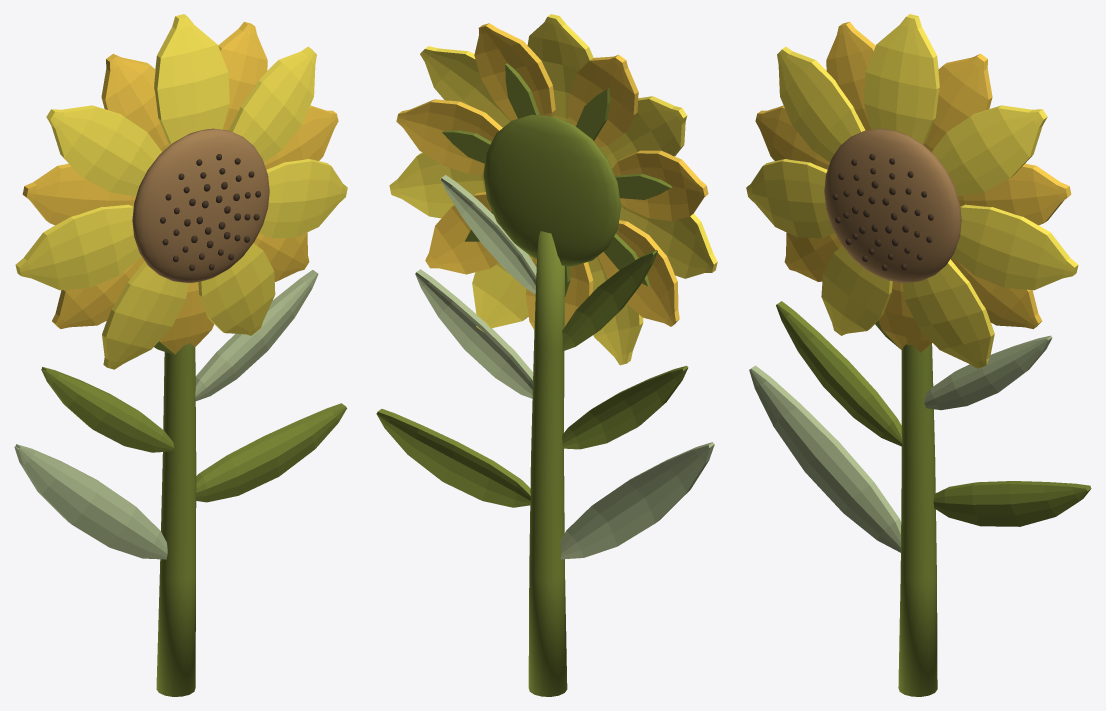
File: Sunflower.glb
3 views of the same model, side by side, from view 1: azimuth 30°, elevation 25°; view 2: azimuth 150°, elevation 25°; view 3: azimuth 330°, elevation 25° (orthographic).
Visible parts, largest first — view 1: Sunflower_Center, Sunflower_Stem, Sunflower_Petal_04, Sunflower_Leaf_Lower_L, Sunflower_Petal_00, Sunflower_Petal_02, Sunflower_Leaf_Lower_R, Sunflower_Petal_12, Sunflower_Petal_06, Sunflower_Petal_10, Sunflower_Petal_08, Sunflower_Leaf_Mid_L (+8 smaller); view 2: Sunflower_Head_Back, Sunflower_Stem, Sunflower_Leaf_Lower_L, Sunflower_Leaf_Lower_R, Sunflower_Leaf_Mid_R, Sunflower_Leaf_Mid_L, Sunflower_Petal_11, Sunflower_Petal_13, Sunflower_Petal_03, Sunflower_Petal_01, Sunflower_Petal_05, Sunflower_Petal_04 (+15 smaller); view 3: Sunflower_Center, Sunflower_Stem, Sunflower_Leaf_Lower_L, Sunflower_Petal_10, Sunflower_Petal_00, Sunflower_Petal_12, Sunflower_Petal_08, Sunflower_Petal_02, Sunflower_Leaf_Lower_R, Sunflower_Leaf_Mid_L, Sunflower_Petal_04, Sunflower_Petal_06 (+8 smaller).
Part boxes in pixels (box(x1,y1,x2,y2)): Sunflower_Center: box(132, 128, 269, 282); Sunflower_Stem: box(156, 343, 196, 696); Sunflower_Petal_04: box(15, 204, 141, 290); Sunflower_Leaf_Lower_L: box(14, 444, 167, 559); Sunflower_Petal_00: box(154, 14, 229, 144); Sunflower_Petal_02: box(46, 105, 161, 196); Sunflower_Leaf_Lower_R: box(196, 403, 346, 502); Sunflower_Petal_12: box(228, 46, 316, 162); Sunflower_Petal_06: box(102, 261, 188, 369); Sunflower_Petal_10: box(259, 159, 347, 238); Sunflower_Petal_08: box(198, 243, 275, 335); Sunflower_Leaf_Mid_L: box(41, 367, 174, 452); Sunflower_Head_Back: box(483, 114, 621, 266); Sunflower_Stem: box(528, 231, 567, 696); Sunflower_Leaf_Lower_L: box(560, 442, 714, 559); Sunflower_Leaf_Lower_R: box(376, 409, 530, 507); Sunflower_Leaf_Mid_R: box(415, 269, 533, 398); Sunflower_Leaf_Mid_L: box(562, 365, 688, 449); Sunflower_Petal_11: box(396, 99, 502, 175); Sunflower_Petal_13: box(474, 23, 555, 120); Sunflower_Petal_03: box(612, 150, 708, 221); Sunflower_Petal_01: box(568, 55, 638, 147); Sunflower_Petal_05: box(598, 220, 679, 326); Sunflower_Petal_04: box(619, 203, 717, 278); Sunflower_Center: box(824, 128, 961, 282); Sunflower_Stem: box(898, 344, 937, 696); Sunflower_Leaf_Lower_L: box(749, 365, 901, 552); Sunflower_Petal_10: box(952, 204, 1078, 290); Sunflower_Petal_00: box(864, 14, 939, 144); Sunflower_Petal_12: box(932, 105, 1047, 196); Sunflower_Petal_08: box(902, 259, 994, 368); Sunflower_Petal_02: box(777, 46, 865, 162); Sunflower_Leaf_Lower_R: box(933, 481, 1091, 526); Sunflower_Leaf_Mid_L: box(776, 301, 902, 446); Sunflower_Petal_04: box(746, 159, 834, 238); Sunflower_Petal_06: box(821, 246, 892, 335).
Size of the model in its own units: 0.8872 by 1.71 by 0.2218.
